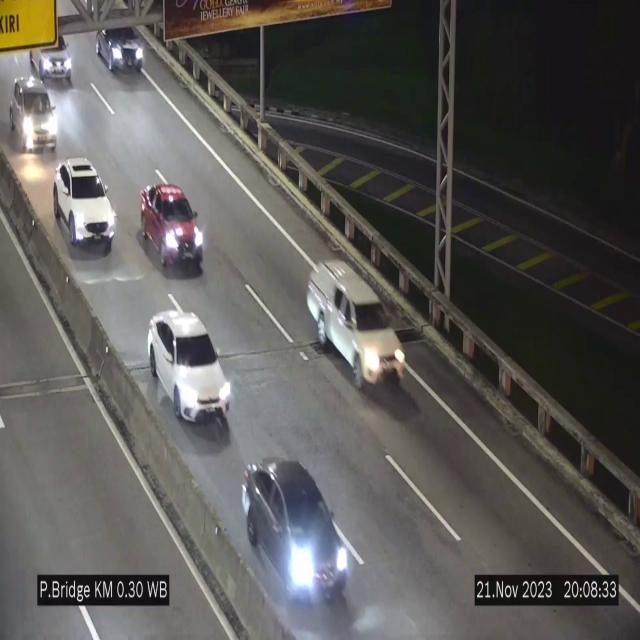Car: (237, 456, 365, 610), (306, 260, 406, 386), (148, 310, 230, 423), (140, 183, 204, 274), (54, 158, 116, 250), (8, 80, 60, 161)
